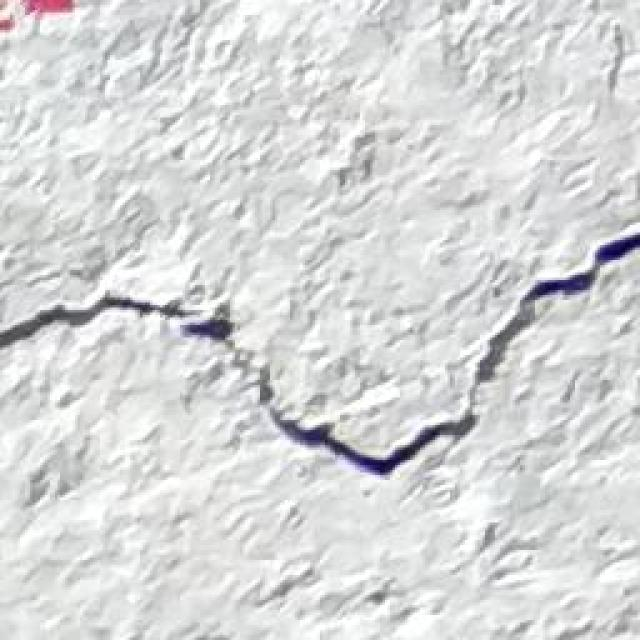Rippled: (0, 0, 640, 226), (0, 477, 640, 640)
Transverse: (0, 231, 640, 477)
